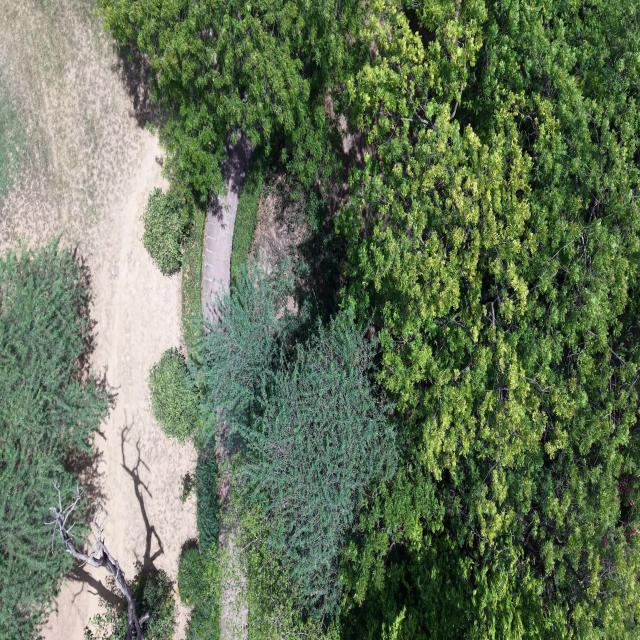DRY_AREA: (0, 0, 196, 580), (202, 133, 252, 321), (202, 133, 252, 320), (202, 134, 252, 321), (250, 171, 308, 271)
VEGETATION_TREE: (100, 0, 639, 638), (339, 2, 639, 637), (199, 264, 396, 618), (98, 0, 368, 206), (239, 312, 396, 618), (0, 240, 110, 639), (0, 241, 109, 639), (179, 468, 339, 639), (223, 485, 339, 639), (47, 485, 161, 639), (196, 268, 291, 433), (237, 510, 339, 639), (178, 429, 219, 639), (293, 190, 346, 322), (231, 150, 268, 282), (149, 348, 199, 441), (143, 188, 191, 274), (179, 541, 220, 639), (181, 207, 205, 359), (0, 79, 26, 201), (130, 570, 175, 639), (132, 570, 175, 639), (195, 433, 219, 554), (178, 547, 206, 607), (186, 595, 220, 639), (186, 600, 220, 639), (180, 473, 195, 503)
